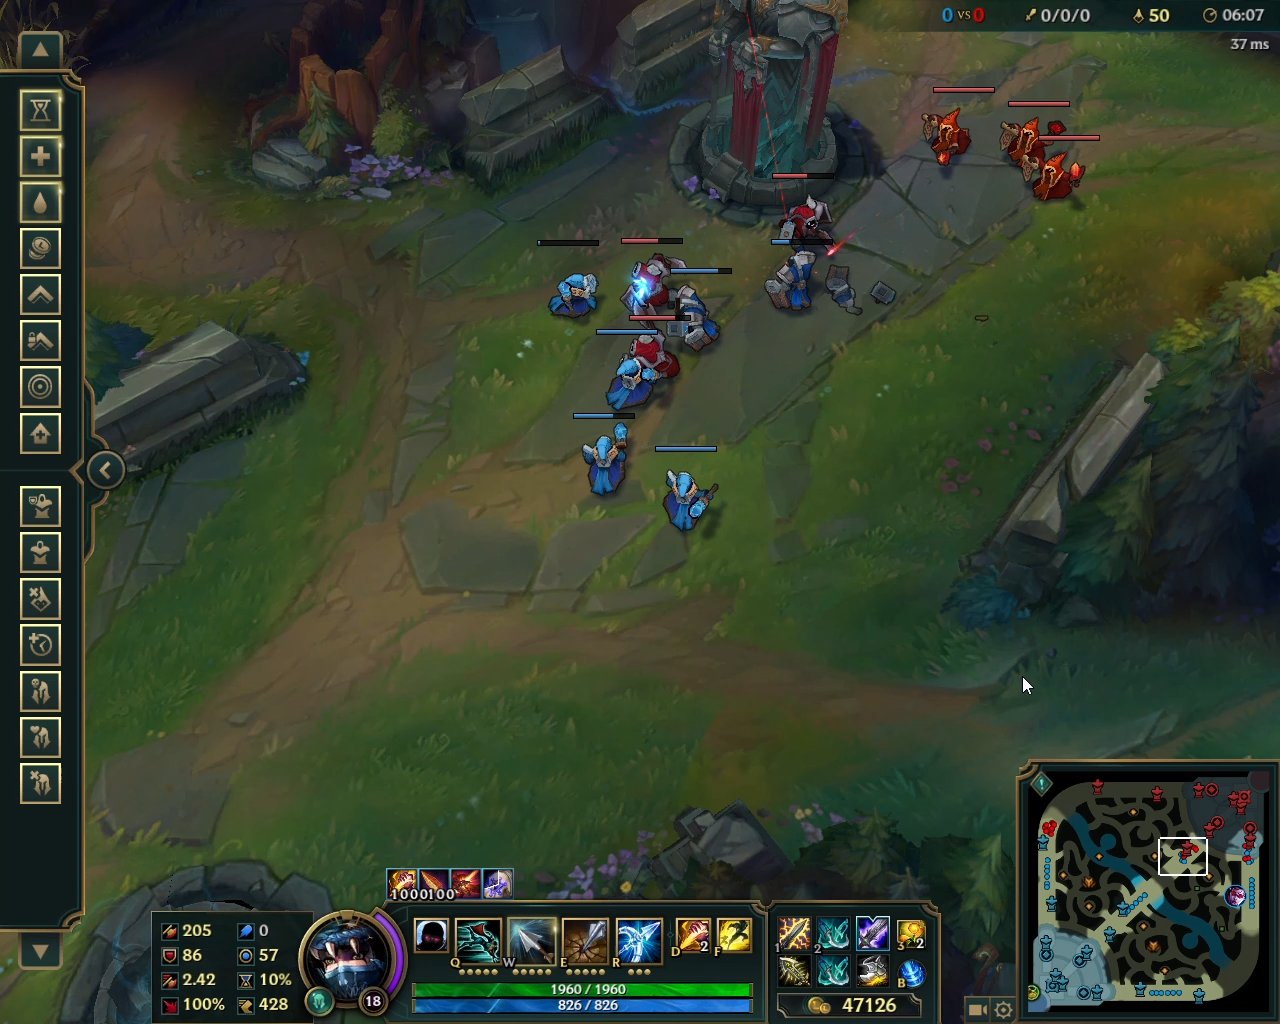EnemyMinion: (920, 87, 996, 169), (616, 235, 686, 324), (1016, 134, 1102, 202), (775, 172, 841, 255), (996, 102, 1071, 171), (619, 311, 694, 379)
Tower: (680, 1, 852, 220)
